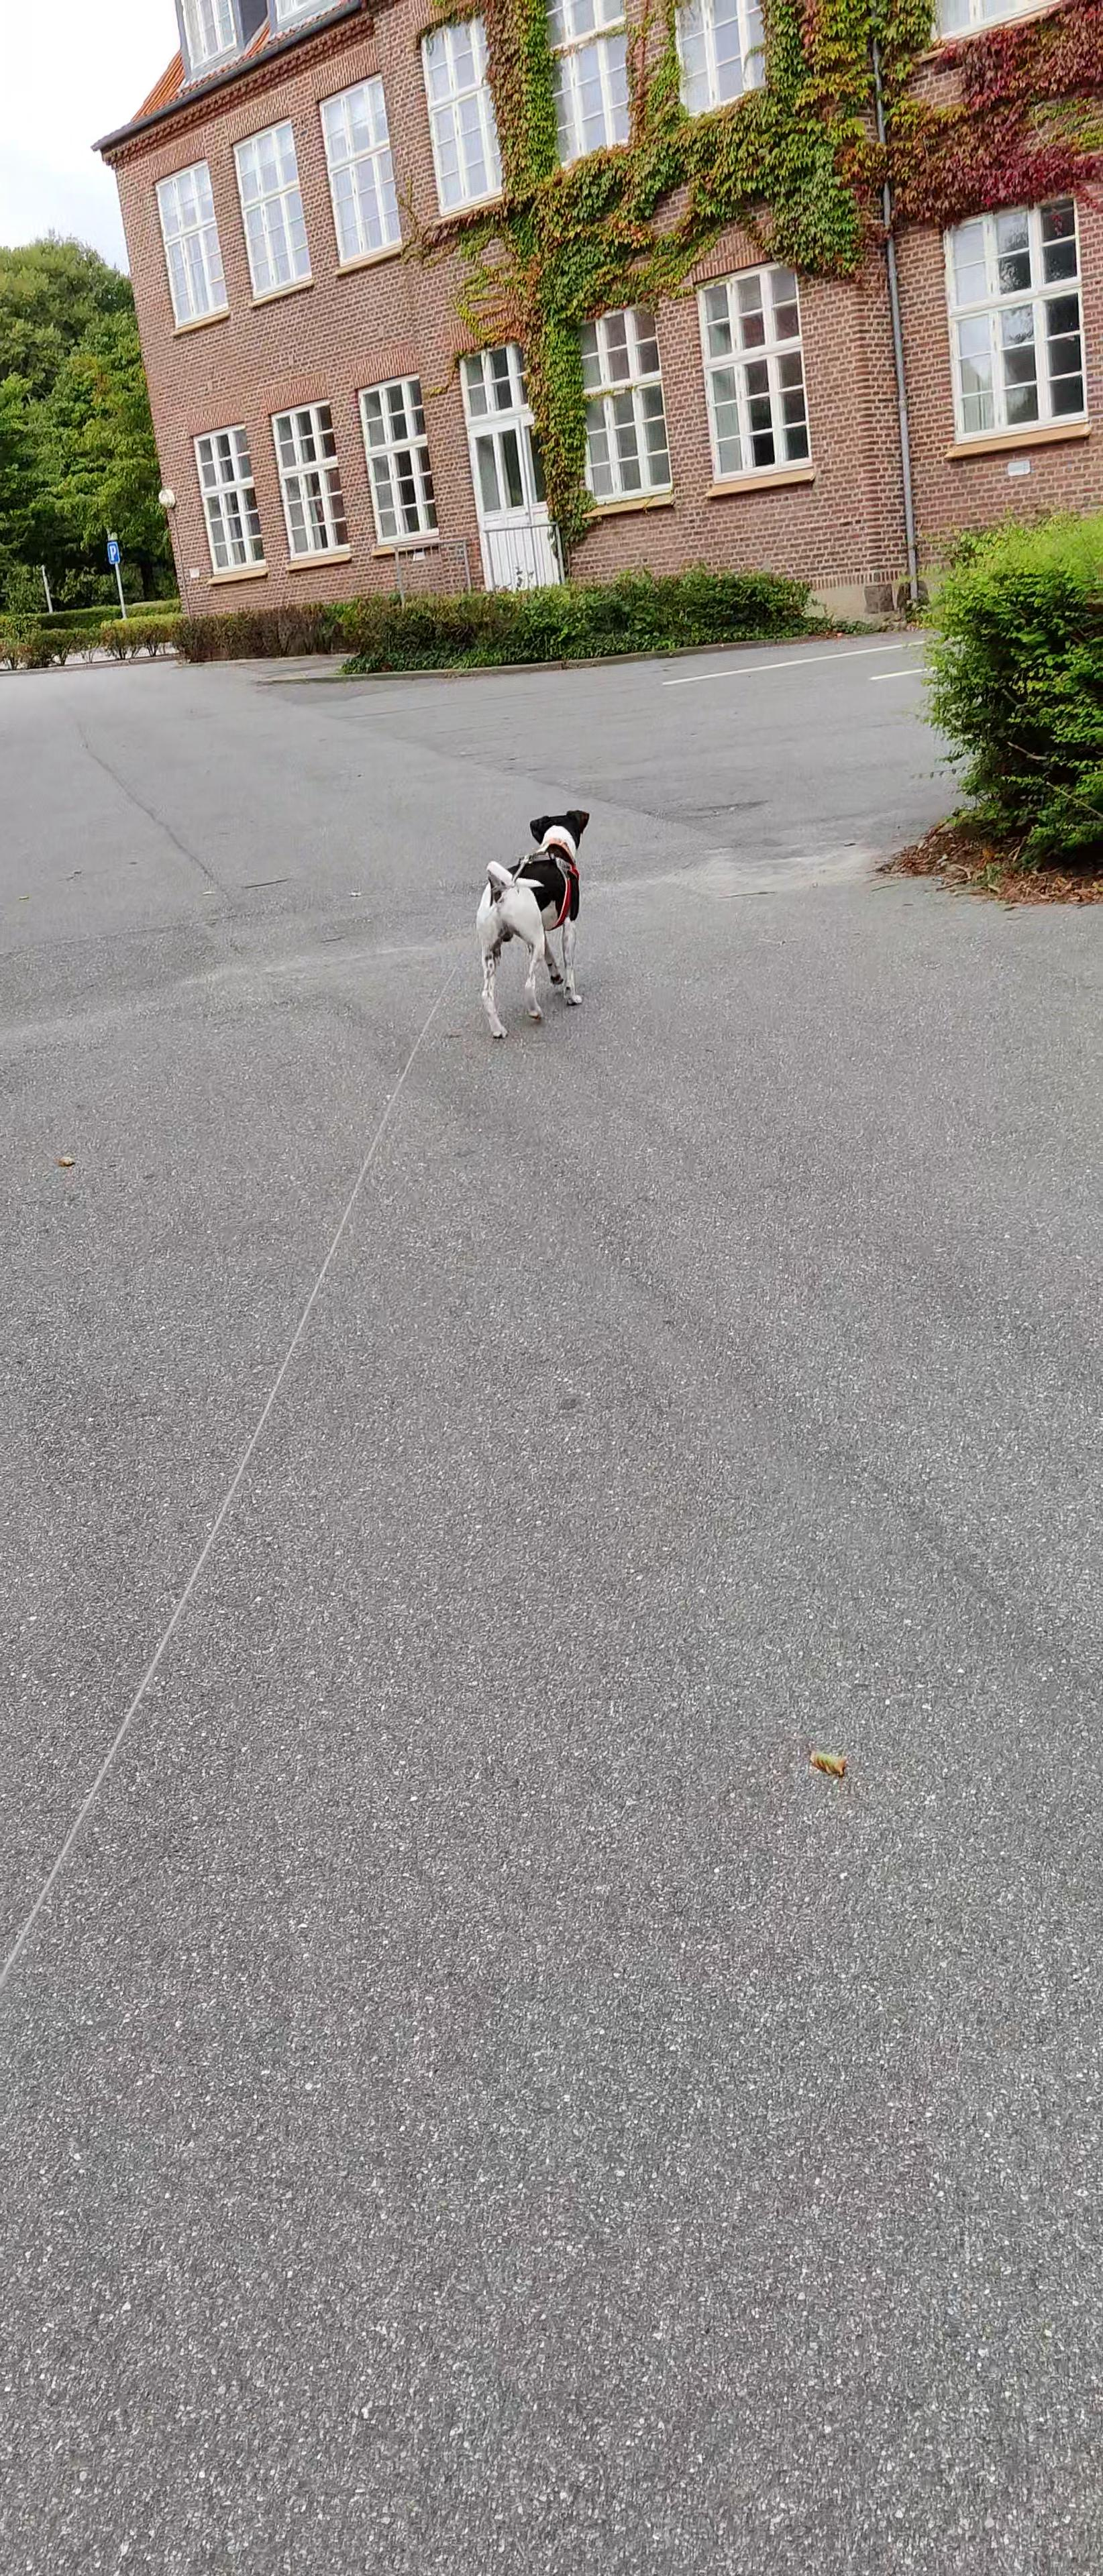Dog: (459, 800, 600, 1048)
